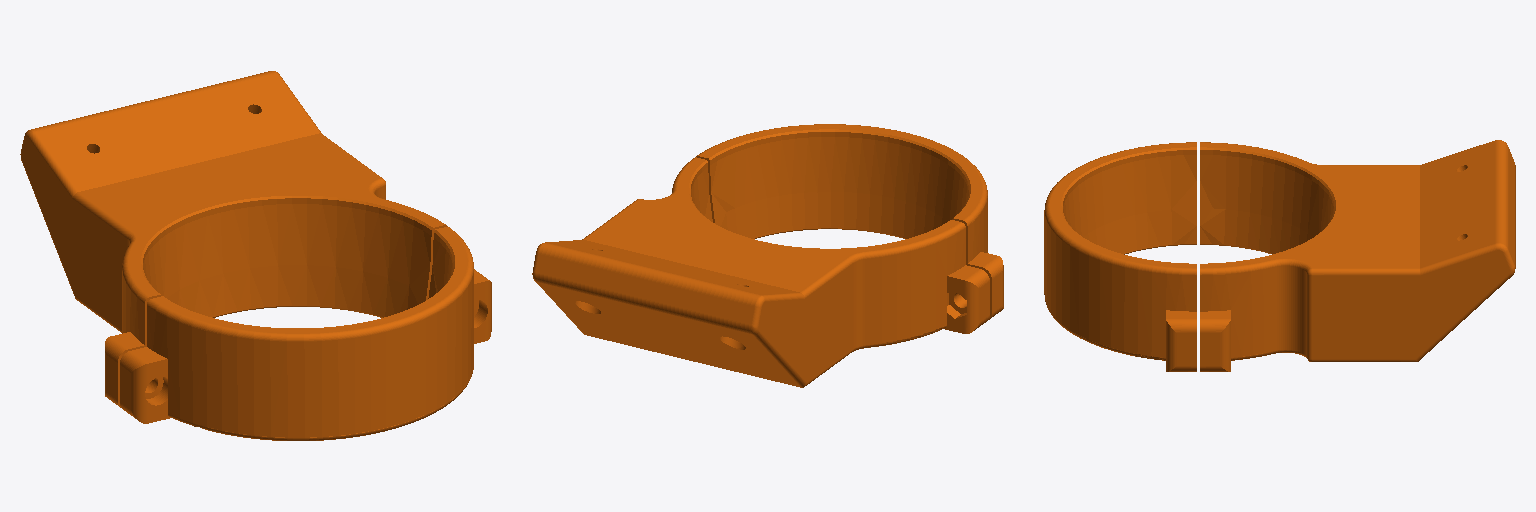
The robot description file, URDF, robot "kinova_cam_ring_stereo":
<?xml version="1.0"?>
<!-- Gerado por scripts/ros_export.py (kinova-cam): ring_stereo — D435i com o meio da linha de base no eixo da garra, 20°.
     URDF isolado (raiz end_effector_link), para conferir com check_urdf / RViz. -->
<robot name="kinova_cam_ring_stereo">
  <link name="end_effector_link"/>
  <joint name="camera_mount_joint" type="fixed">
    <parent link="end_effector_link"/>
    <child link="camera_mount_link"/>
    <origin xyz="0 0 0.00287" rpy="0 0 0"/>
  </joint>
  <link name="camera_mount_link">
    <visual>
      <geometry><mesh filename="package://kinova_cam_description/meshes/ring_stereo_camera_half.stl" scale="0.001 0.001 0.001"/></geometry>
      <material name="ring_stereo_camera_half"><color rgba="0.85 0.45 0.1 1"/></material>
    </visual>
    <collision>
      <geometry><mesh filename="package://kinova_cam_description/meshes/ring_stereo_camera_half.stl" scale="0.001 0.001 0.001"/></geometry>
    </collision>
    <visual>
      <geometry><mesh filename="package://kinova_cam_description/meshes/ring_lower_half.stl" scale="0.001 0.001 0.001"/></geometry>
      <material name="ring_lower_half"><color rgba="0.85 0.45 0.1 1"/></material>
    </visual>
    <collision>
      <geometry><mesh filename="package://kinova_cam_description/meshes/ring_lower_half.stl" scale="0.001 0.001 0.001"/></geometry>
    </collision>
  </link>
  <joint name="camera_joint" type="fixed">
    <parent link="camera_mount_link"/>
    <child link="camera_link"/>
    <origin xyz="0.025 0.065683 0.002821" rpy="0 -1.22173 -1.5708"/>
  </joint>
  <link name="camera_link"/>
</robot>

--- Facts derived from the render (not from the file) ---
The picture shows the robot from 3 angles, left to right: view 1: azimuth 30°, elevation 25°; view 2: azimuth 150°, elevation 25°; view 3: azimuth 270°, elevation 25°; orthographic projection.
Model kinova_cam_ring_stereo with 3 links and 2 joints (2 fixed), rooted at end_effector_link, posed every joint at zero.
Links seen in each view (by area): view 1: camera_mount_link; view 2: camera_mount_link; view 3: camera_mount_link.
Link boxes in pixels (x1,y1,x2,y2): camera_mount_link: [20, 71, 491, 440]; camera_mount_link: [532, 124, 1003, 387]; camera_mount_link: [1044, 140, 1515, 371].
Bounding box of the posed robot: 0.1 × 0.13 × 0.0362 m (x, y, z).
Meshes: 2 distinct files referenced, 2 mesh visuals loaded (2 binary STL).
